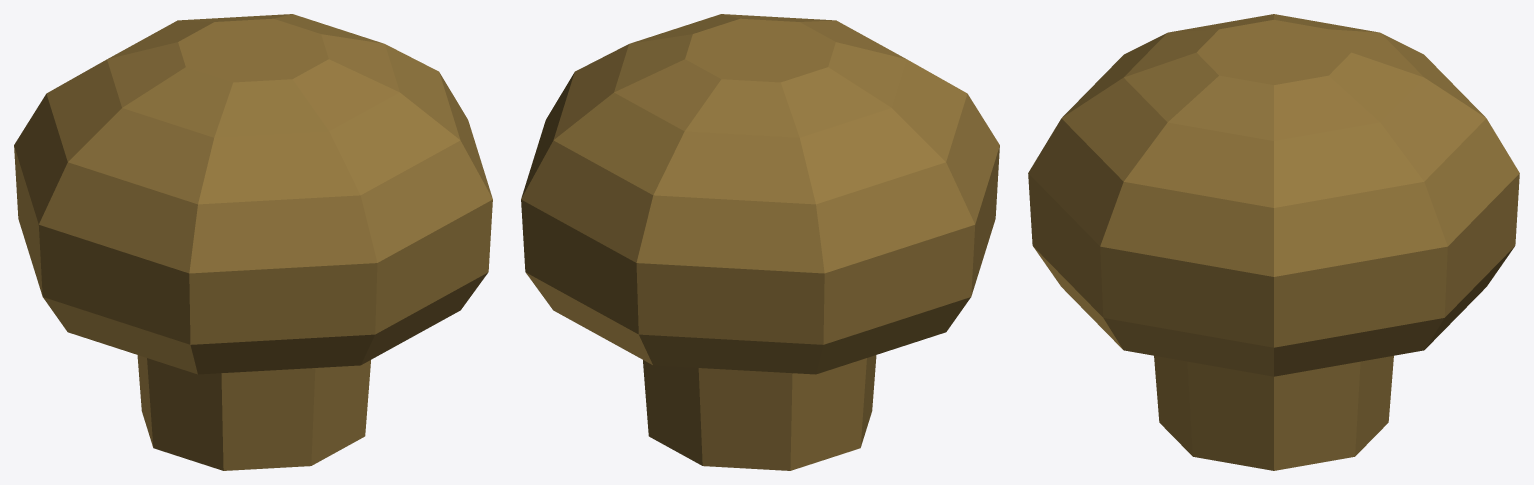
The model's file is mushroom.fbx.
3 renders of one model, left to right at view 1: azimuth 30°, elevation 25°; view 2: azimuth 150°, elevation 25°; view 3: azimuth 270°, elevation 25°, orthographic.
Visible parts, largest first — view 1: mushroom; view 2: mushroom; view 3: mushroom.
Part boxes in pixels (box(x1,y1,x2,y2)): mushroom: box(14, 14, 492, 470); mushroom: box(521, 14, 999, 470); mushroom: box(1028, 14, 1519, 470).
Bounding box in the file's own units: 152 × 126 × 152.
